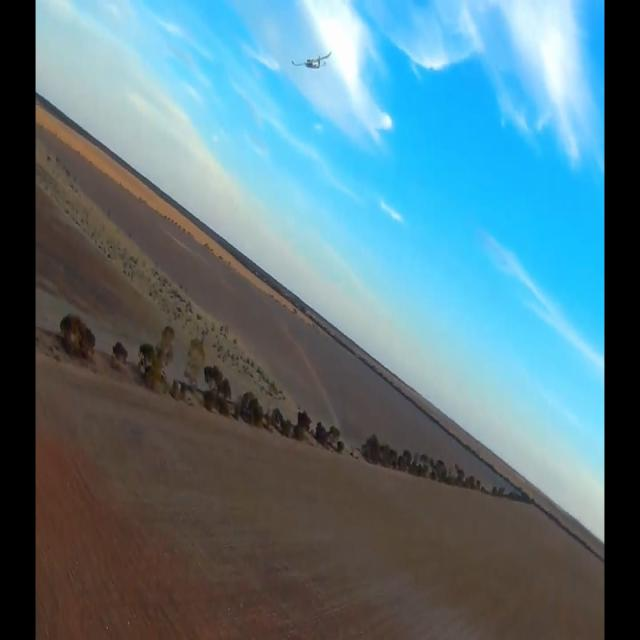iha: (291, 50, 332, 70)
